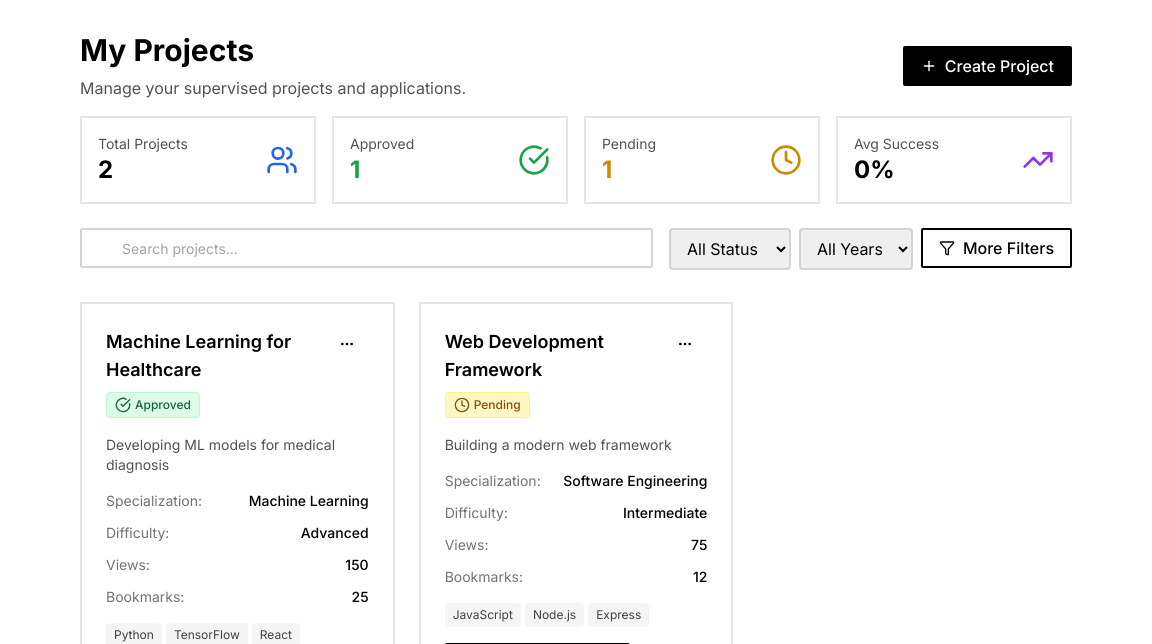
SupervisorProjectsPage › should filter projects by status
The width and height of the screenshot is (1152, 644).
Expected: the heading "Machine Learning for Healthcare" is shown, [106,331,291,380]
Expected: the heading "Web Development Framework" is shown, [445,331,604,380]
# Filter by pending status
Select "Pending" in the 1st dropdown showing "All Status" at coordinates (730, 249), box [669,228,791,270]
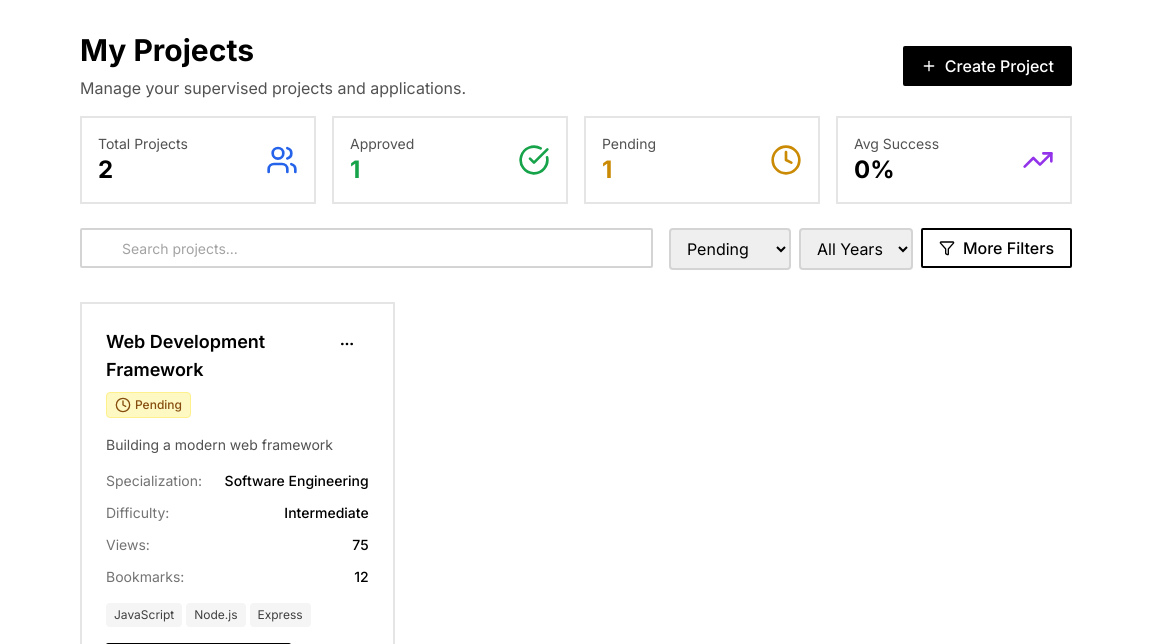
Expected: the heading "Web Development Framework" is shown, [106,331,265,380]
Expected: the heading "Machine Learning for Healthcare" is gone
